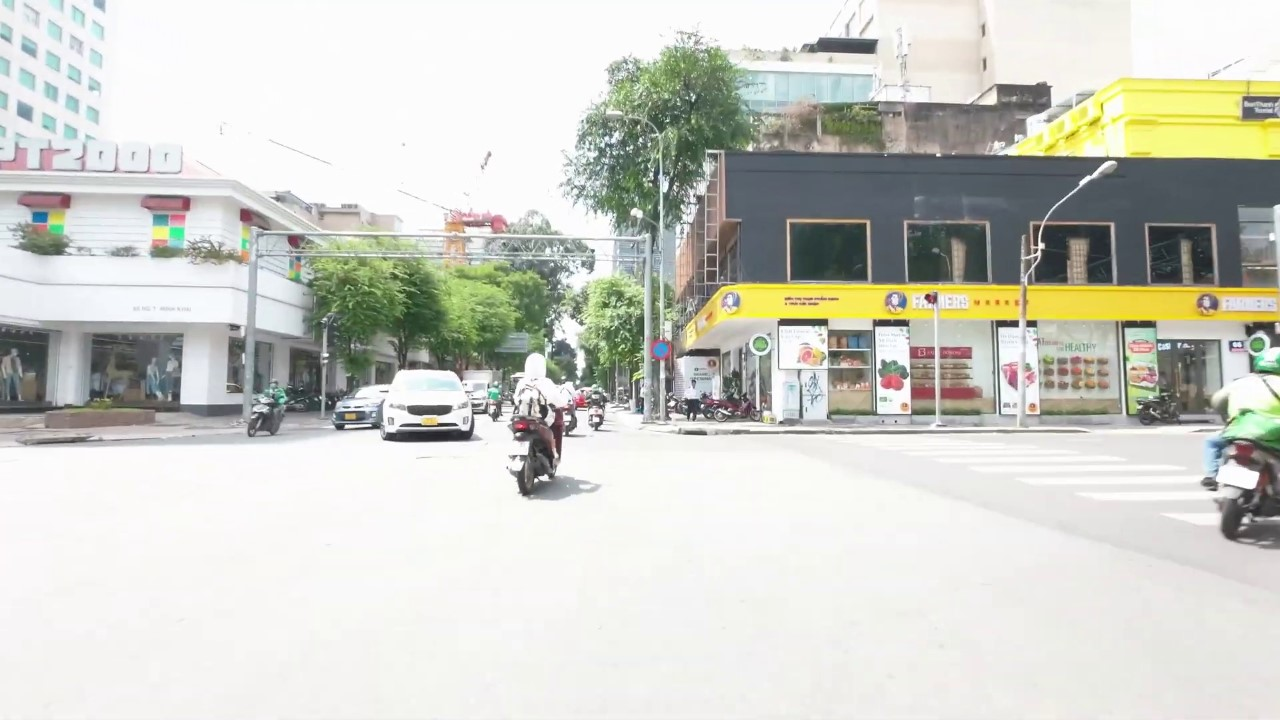cam_do_xe: (649, 340, 671, 361)
